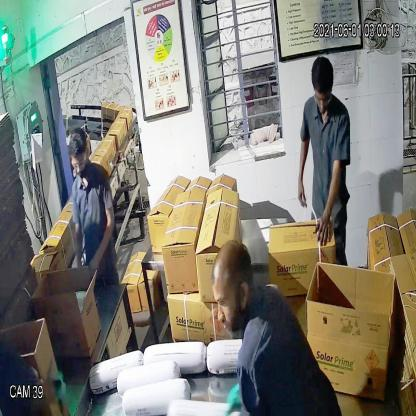goggles: (68, 151, 91, 175)
